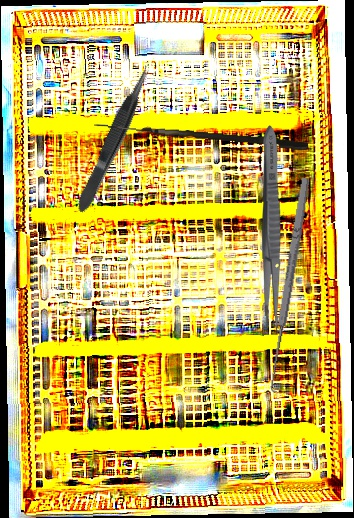Dressing Forceps: (259, 124, 284, 336)
Hook Surgical: (264, 177, 320, 394), (92, 123, 309, 151)
Tissue Forceps: (70, 63, 157, 216)
